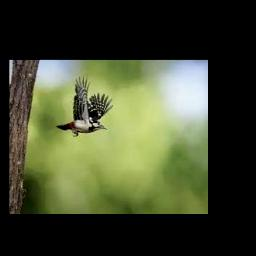Woodpecker: (57, 74, 114, 137)
